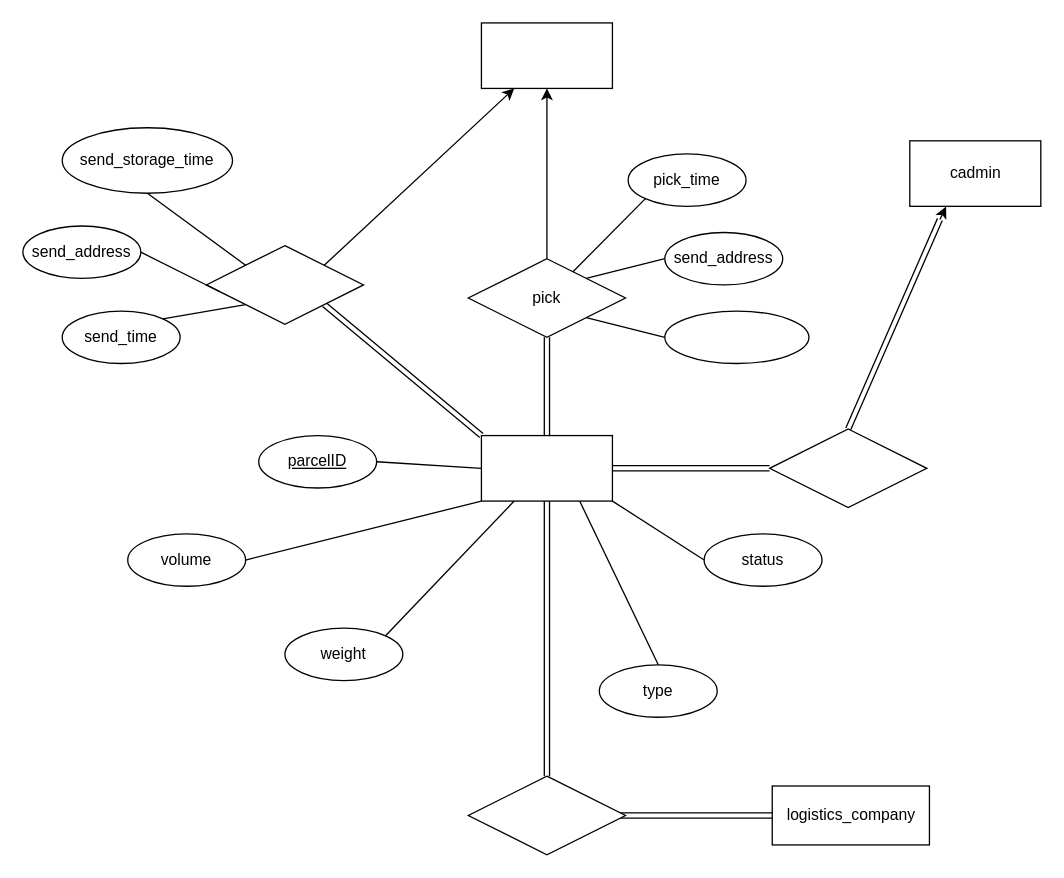
The diagram is 1064 pixels wide and 878 high, and some of its shapes have lost their labels. The centre of each missing label's shape, as x and y in pixels:
"carry" goes at (x=546, y=815).
"customer" goes at (x=546, y=55).
"manage" goes at (x=847, y=468).
"parcel" goes at (x=546, y=467).
"pick_storage_time" goes at (x=736, y=337).
"send" goes at (x=284, y=284).
